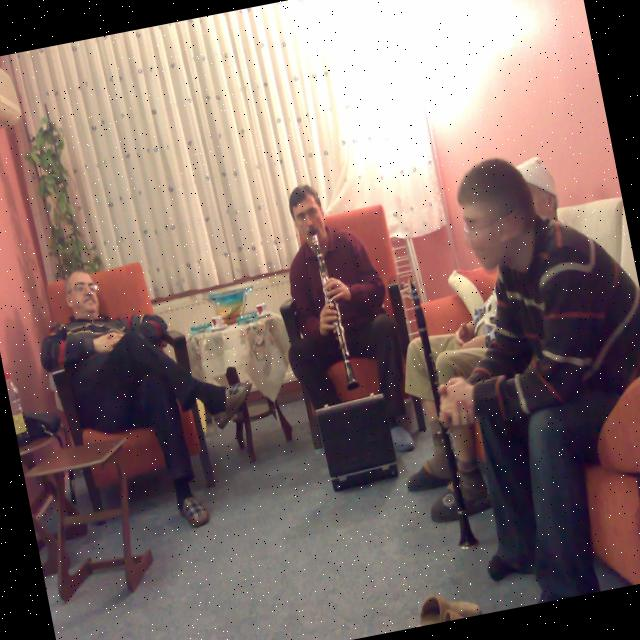clarinet: (402, 272, 485, 552), (309, 232, 360, 394)
